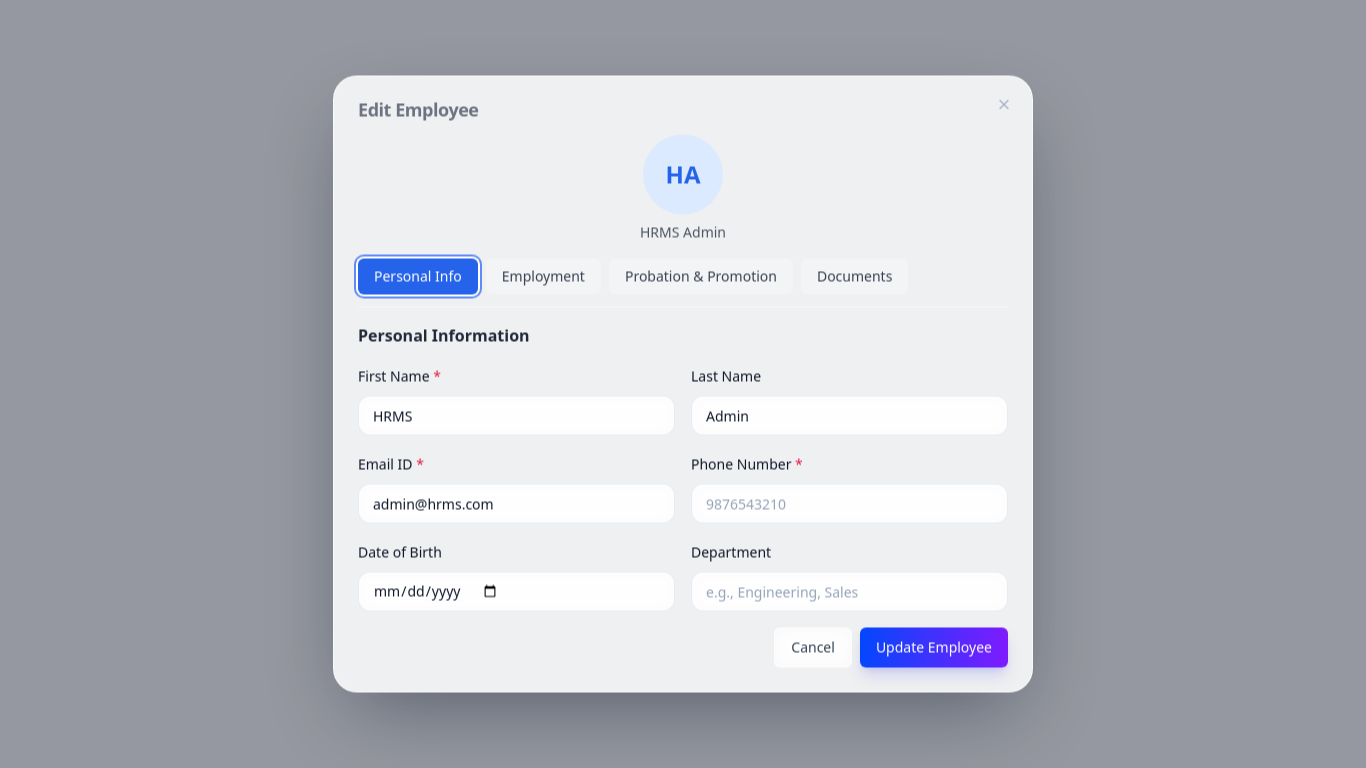
Test: EmployeeModal — update submit › jumps to the tab holding the first invalid field
Note: Start on Personal Info, then submit with an invalid phone on that tab.
Click the button "Employment": (543, 276) x1=486 y1=258 x2=601 y2=294
(page scrolled)
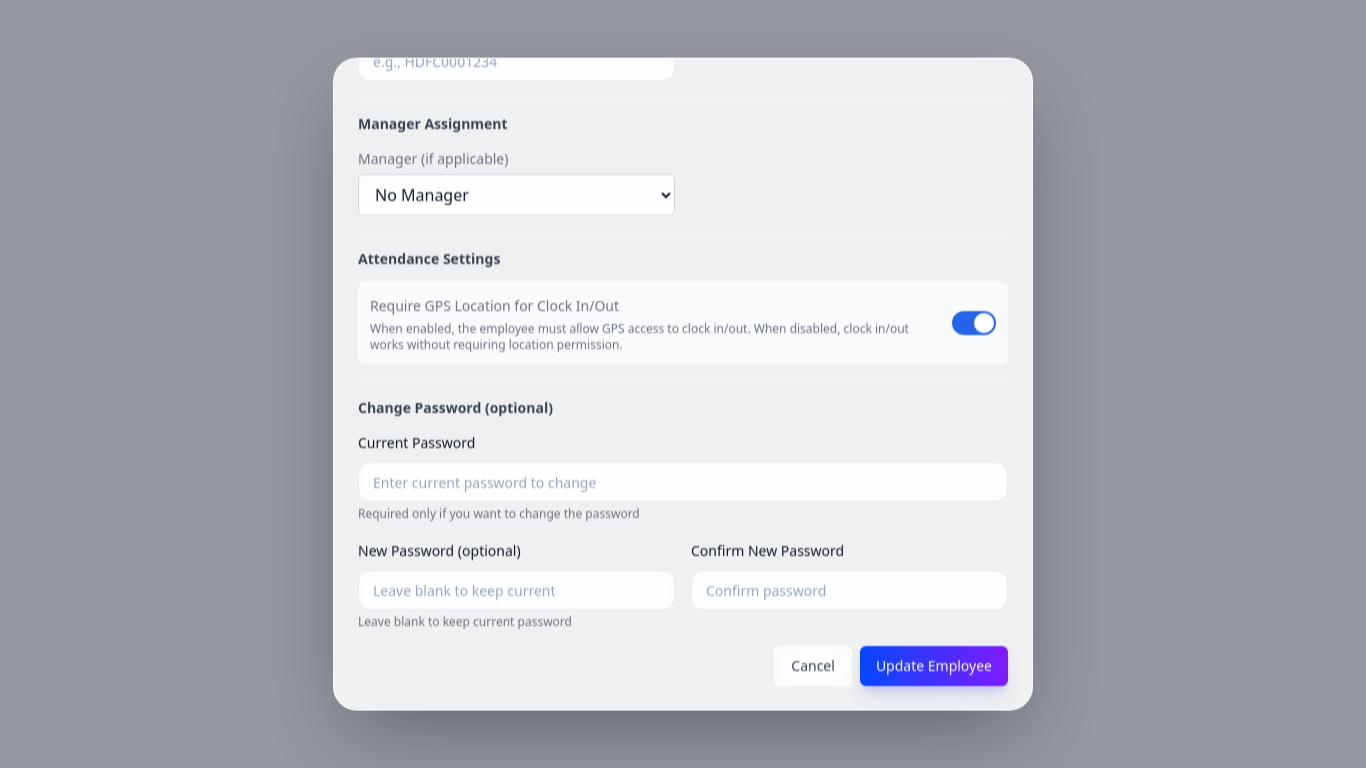
Click the button "Update Employee": (934, 666) x1=860 y1=646 x2=1008 y2=686
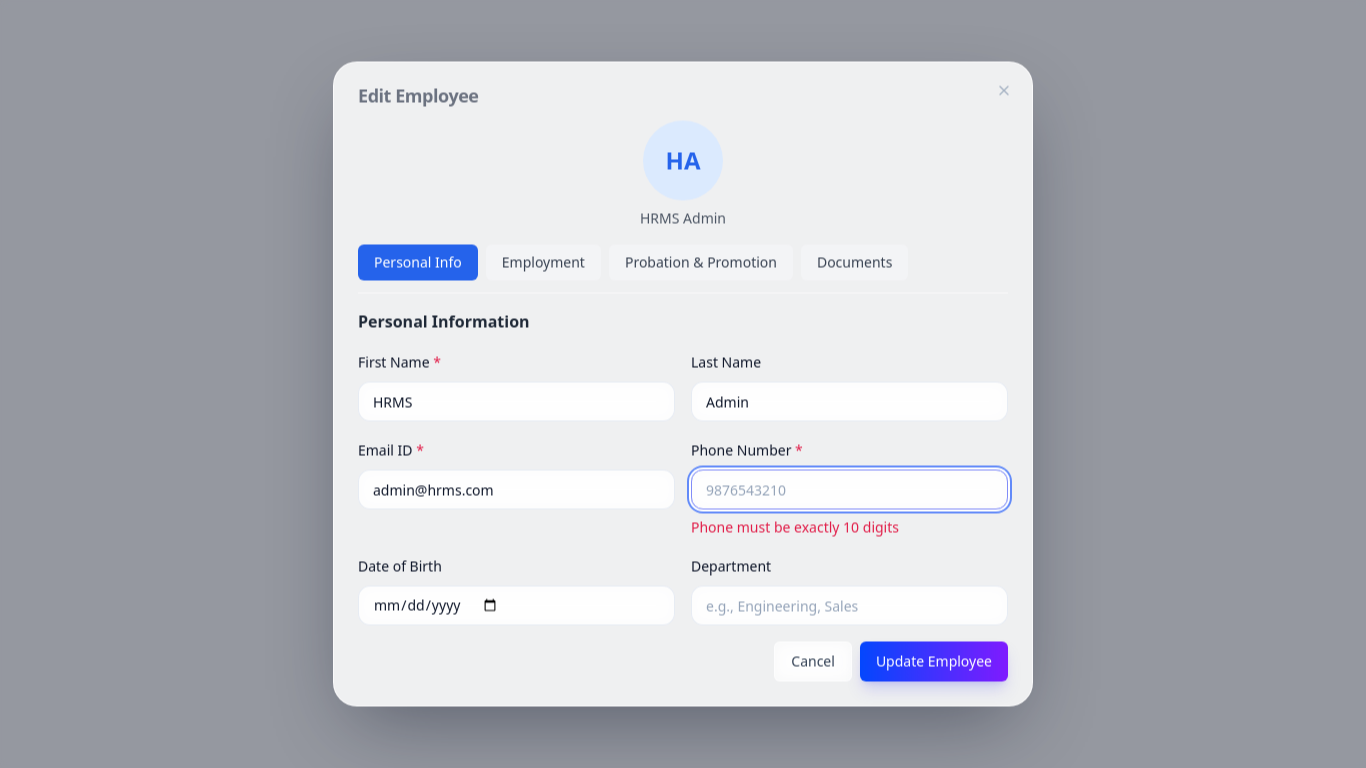
Now the text "Phone must be exactly 10 digits" is shown, box x1=691 y1=518 x2=899 y2=536
